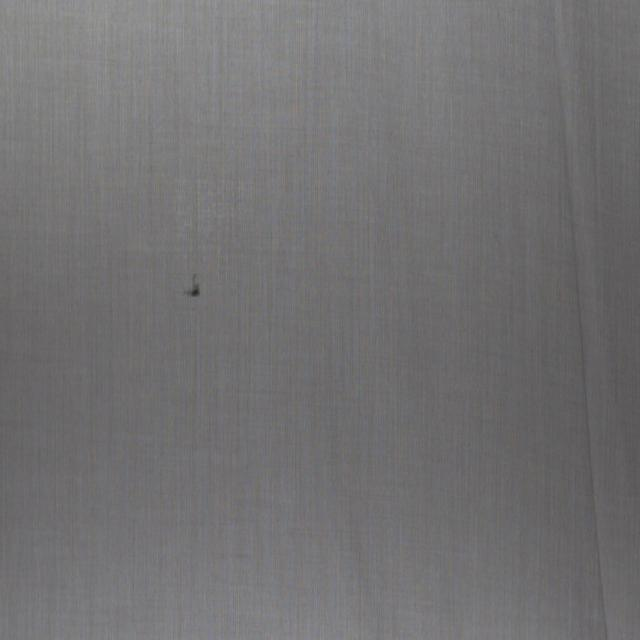dirty: (186, 273, 201, 298)
